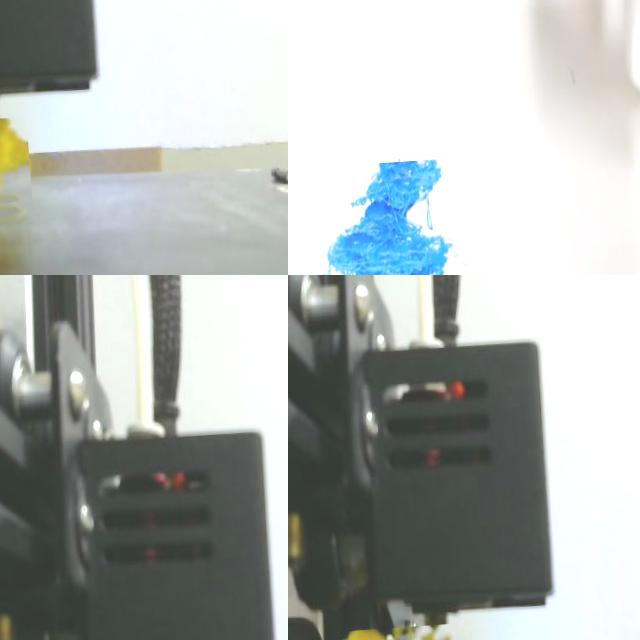spaghetti: (325, 160, 453, 275)
